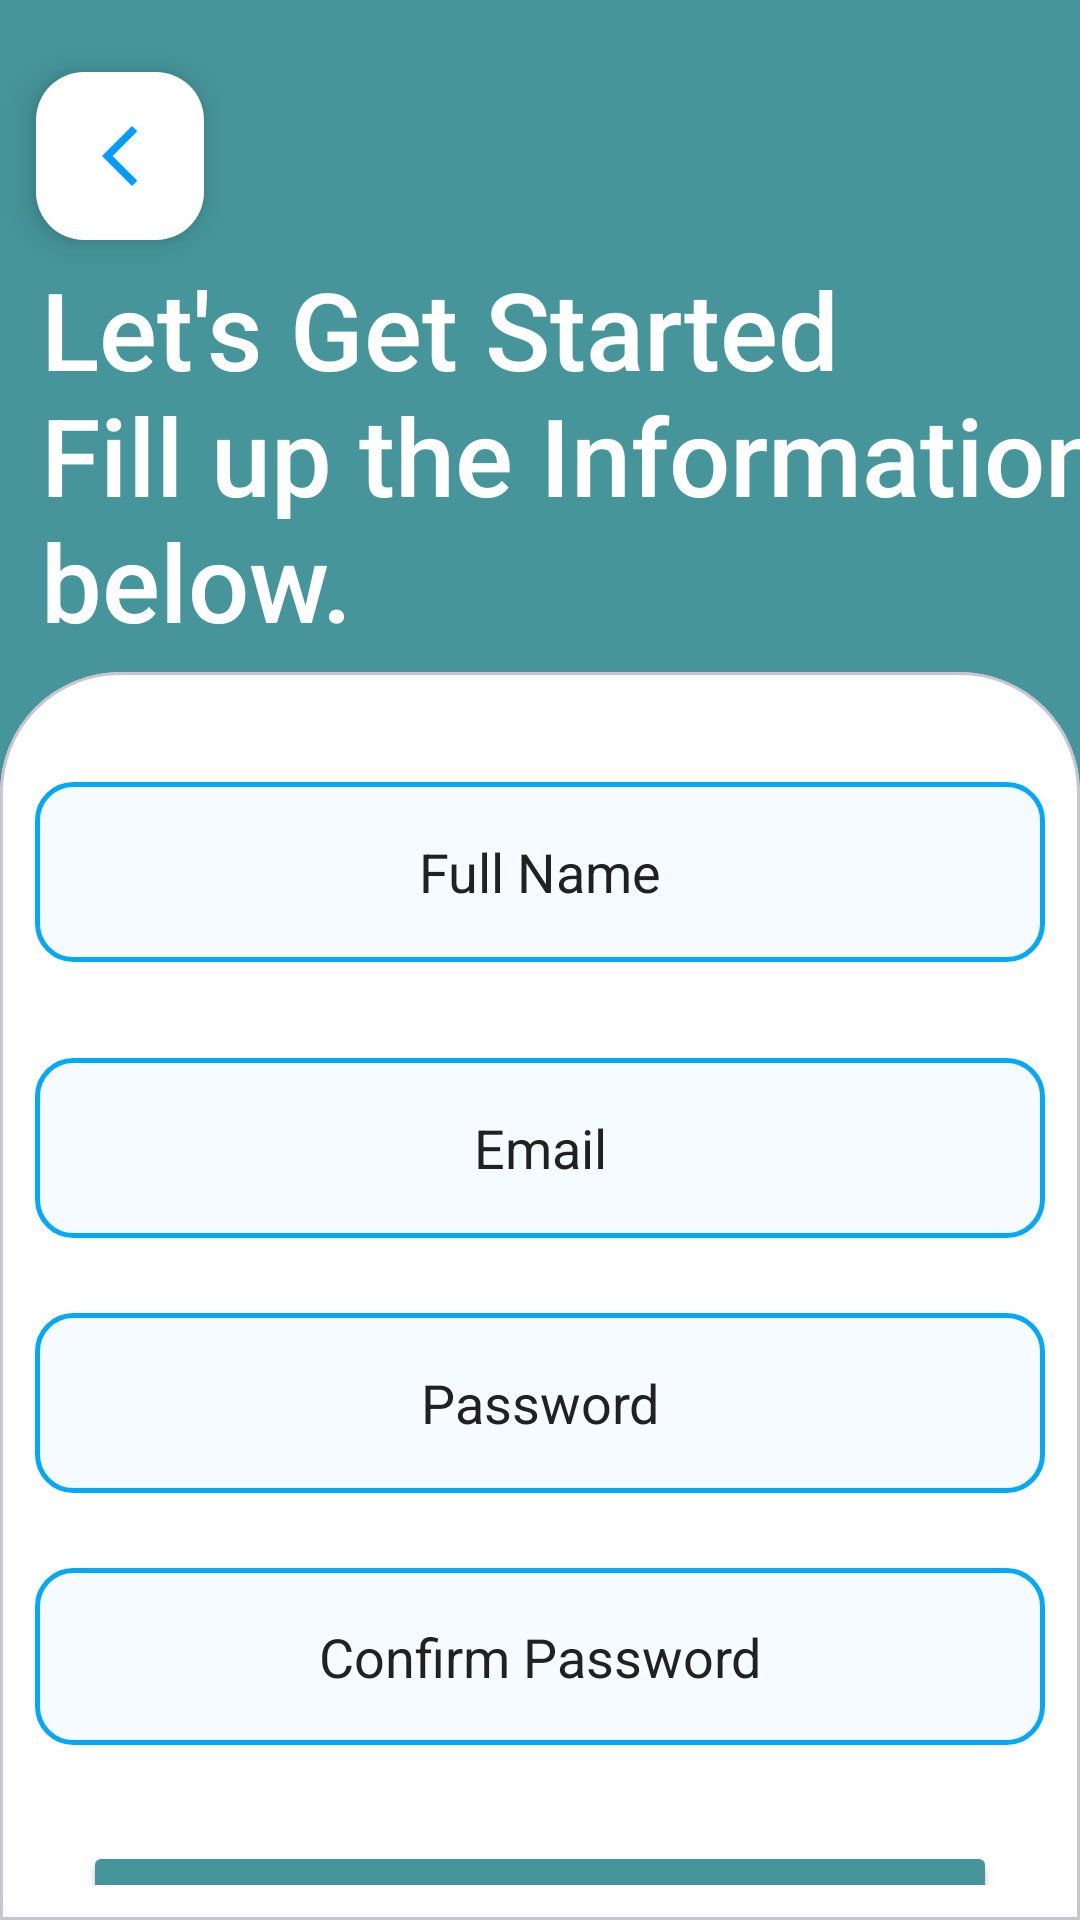

Icons on this 1080 x 1920 Android screen, each with the point to tap as point (x, y):
Back Button: point (120, 156)
